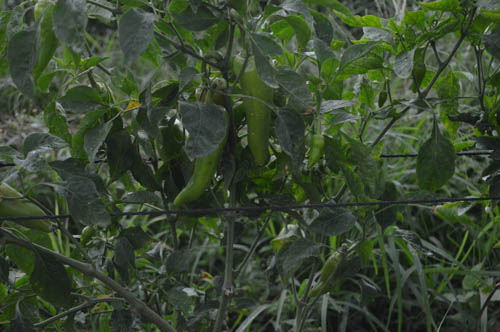ChiliPepper: (240, 66, 275, 165), (173, 155, 223, 209), (3, 186, 47, 229)
